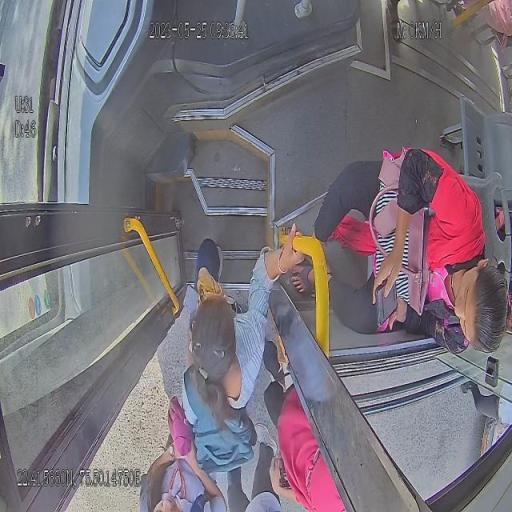persona: (290, 145, 508, 357), (180, 223, 304, 479), (139, 395, 228, 511)
